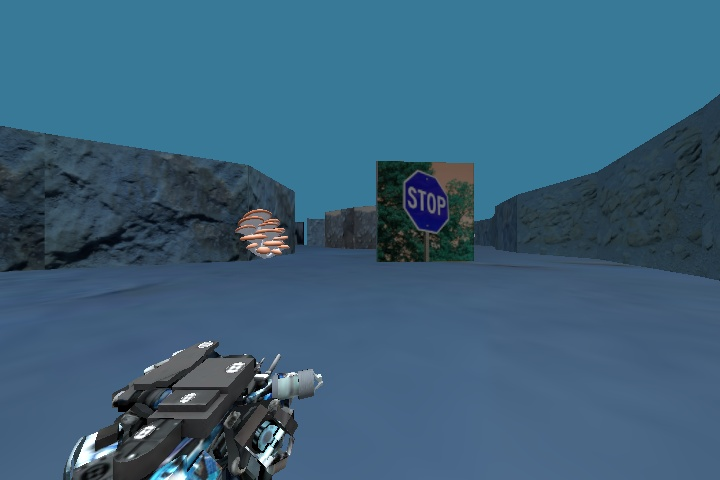stop_sign: (396, 164, 455, 238)
white_sphere: (230, 202, 301, 265)
